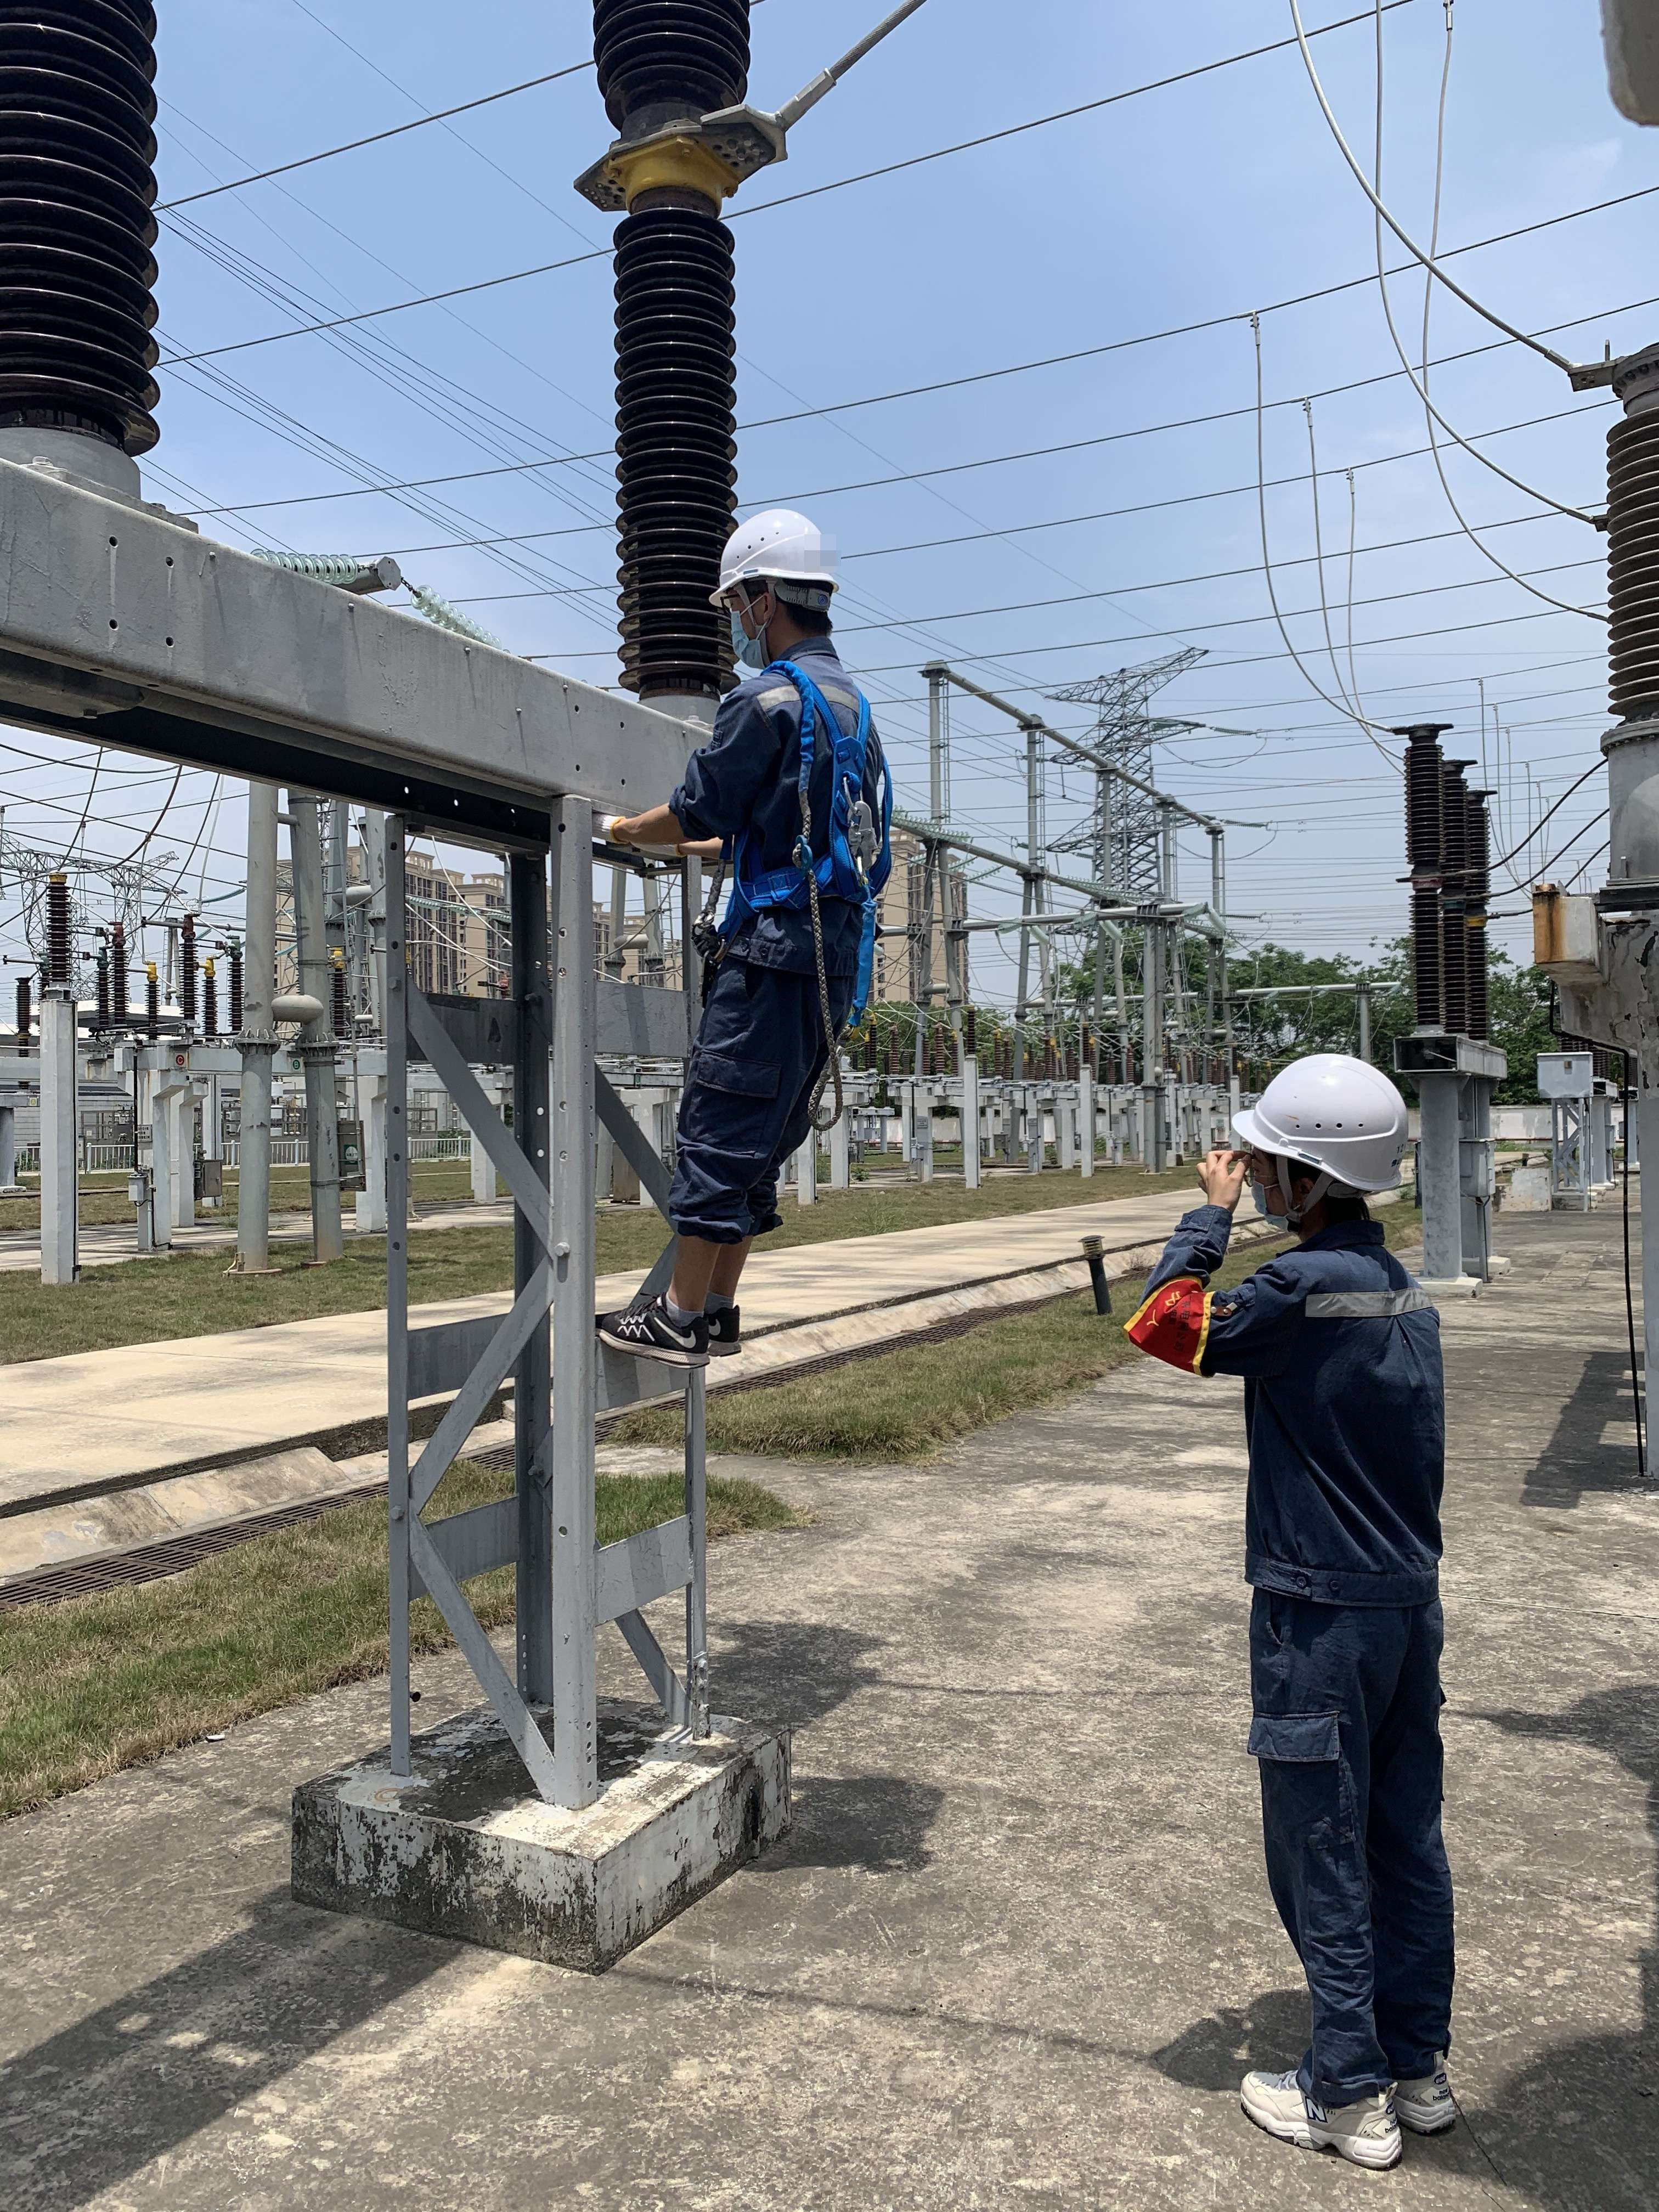downsuit: (1253, 1625, 1460, 2094), (660, 974, 836, 1242)
upsuit: (1131, 1207, 1446, 1602), (678, 650, 904, 927)
wrongbottom: (640, 1205, 767, 1331)
wrongtop: (596, 787, 737, 880)
